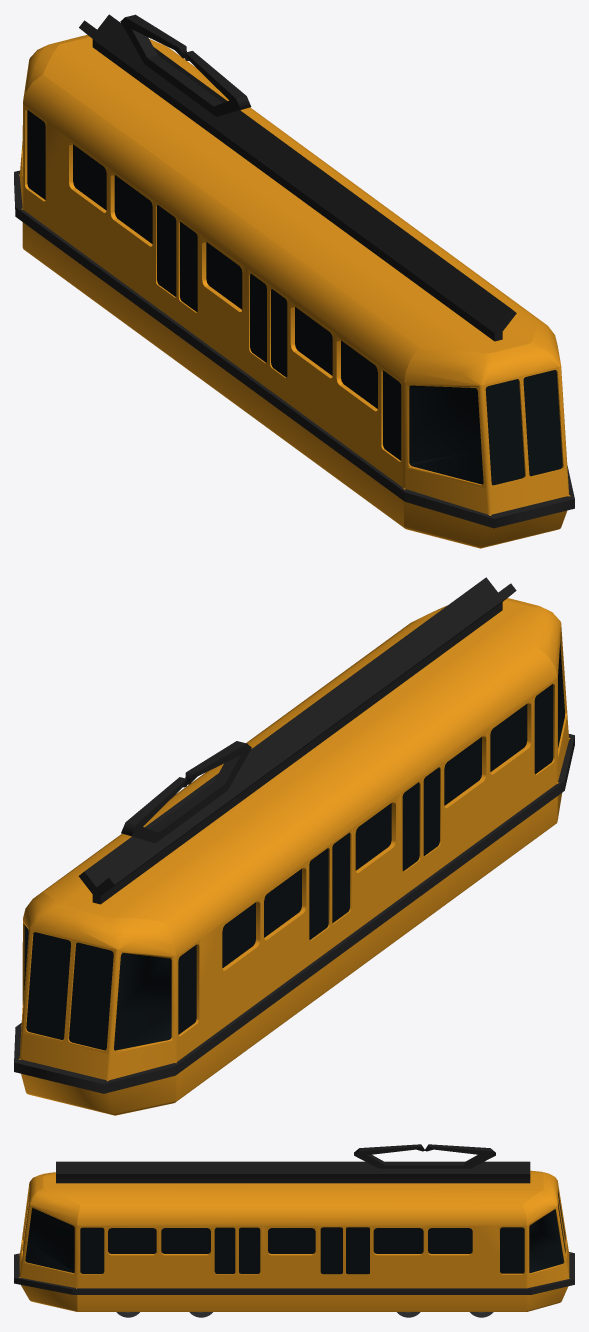
The model's file is tram.v3.fbx.
The picture shows the model from 3 angles, top to bottom: view 1: azimuth 30°, elevation 25°; view 2: azimuth 150°, elevation 25°; view 3: azimuth 270°, elevation 25°; orthographic projection. The views are drawn at different scales.
Parts seen in each view (by area): view 1: Куб.002; view 2: Куб.002; view 3: Куб.002.
Part boxes in pixels (x1,y1,x2,y2): Куб.002: (14, 14, 574, 548); Куб.002: (14, 577, 574, 1115); Куб.002: (14, 1144, 574, 1317).
Size of what is drawn, in the model's own units: 214 by 341 by 1099.
